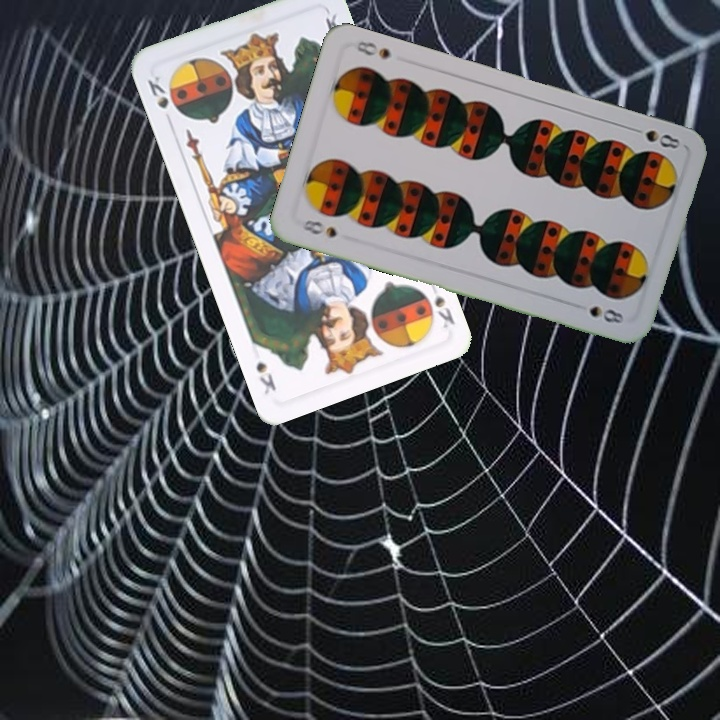S8: (625, 123, 683, 152), (295, 215, 340, 241)
SK: (425, 277, 458, 331), (143, 71, 171, 112)
